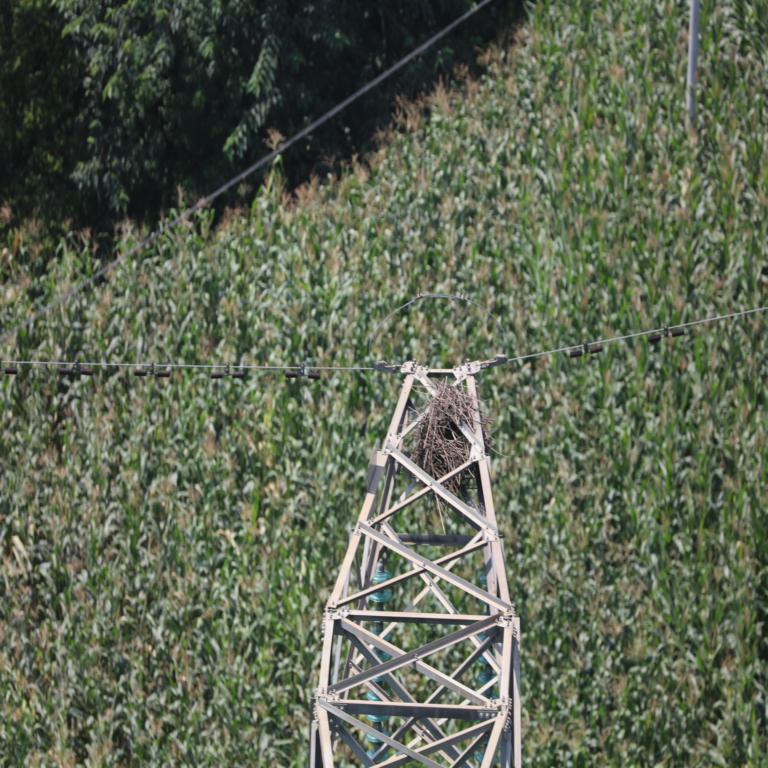nest: (417, 386, 474, 501)
